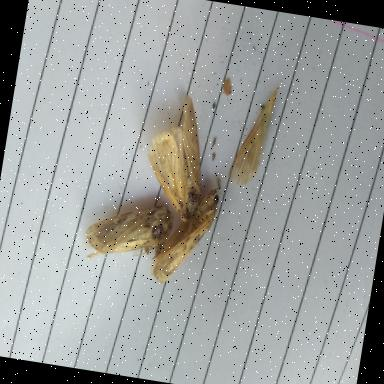abw: (137, 89, 216, 224), (148, 180, 220, 292), (80, 194, 174, 272)
